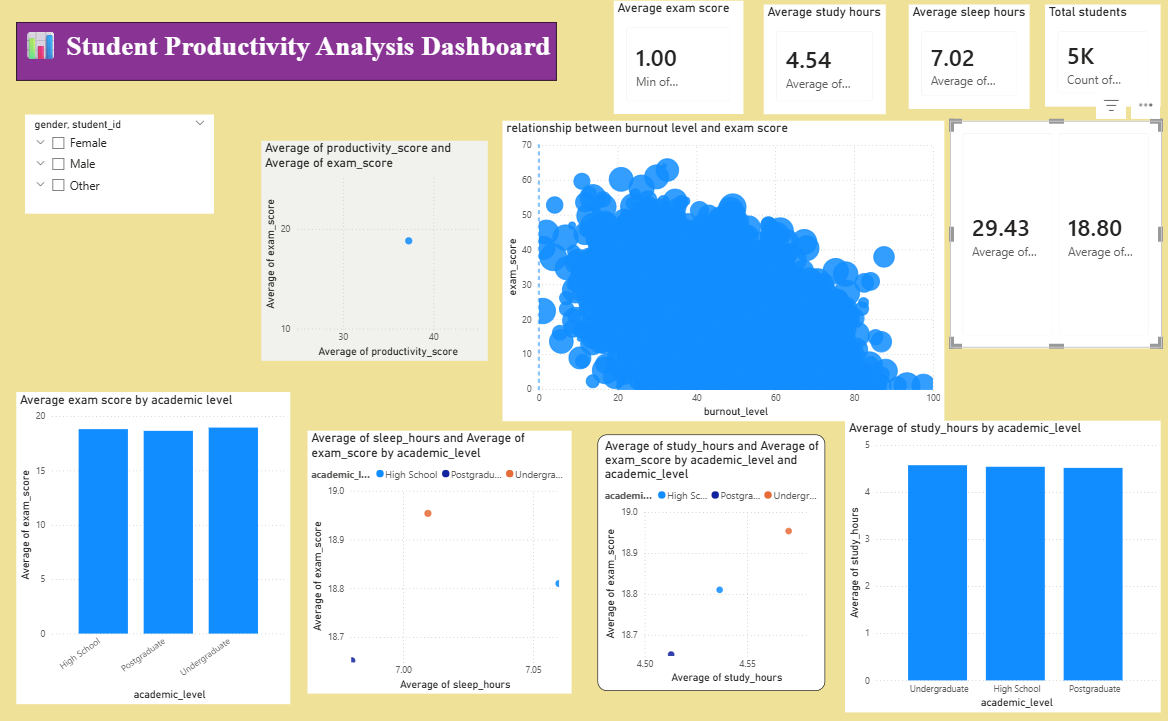

The page's visual inventory and layout, read from the dashboard file:
{"tool":"powerbi","page":{"name":"Page 1","canvas":[1600,1000],"ordinal":0},"visuals":[{"type":"clusteredColumnChart","title":"Average exam score by academic level","fields":{"Category":["ultimate_student_productivity_d.academic_level","ultimate_student_productivity_d.study_hours"],"Y":["Avg(ultimate_student_productivity_d.exam_score)"]},"box":[216,623.7,374.9,369.7],"z":0},{"type":"clusteredColumnChart","fields":{"Category":["ultimate_student_productivity_d.academic_level"],"Y":["Avg(ultimate_student_productivity_d.study_hours)"]},"box":[1135.1,623.7,392.2,355.9],"z":1000},{"type":"scatterChart","fields":{"X":["Avg(ultimate_student_productivity_d.study_hours)"],"Y":["Avg(ultimate_student_productivity_d.exam_score)"],"Category":["ultimate_student_productivity_d.academic_level","ultimate_student_productivity_d.student_id"],"Series":["ultimate_student_productivity_d.academic_level"]},"box":[927.8,228.1,311,300.6],"z":2000},{"type":"scatterChart","fields":{"X":["Avg(ultimate_student_productivity_d.sleep_hours)"],"Y":["Avg(ultimate_student_productivity_d.exam_score)"],"Series":["ultimate_student_productivity_d.academic_level"]},"box":[250.5,228.1,304.1,300.6],"z":3000},{"type":"cardVisual","fields":{"Data":["Avg(ultimate_student_productivity_d.focus_index)","Avg(ultimate_student_productivity_d.exam_score)"]},"box":[1268.1,205.6,290.3,323.1],"z":4000},{"type":"scatterChart","title":"relationship between burnout level and exam score","fields":{"X":["ultimate_student_productivity_d.burnout_level"],"Y":["ultimate_student_productivity_d.exam_score"],"Size":["Sum(ultimate_student_productivity_d.student_id)"]},"box":[684.2,623.7,340.4,369.7],"z":5000},{"type":"scatterChart","fields":{"X":["Avg(ultimate_student_productivity_d.productivity_score)"],"Y":["Avg(ultimate_student_productivity_d.exam_score)"]},"box":[587.4,228.1,307.5,300.6],"z":6000},{"type":"cardVisual","title":"Average exam score","fields":{"Data":["Min(ultimate_student_productivity_d.exam_score)"]},"box":[13.8,24.2,150.3,139.9],"z":7000},{"type":"cardVisual","title":"Average study hours","fields":{"Data":["Avg(ultimate_student_productivity_d.study_hours)"]},"box":[0,217.7,150.3,150.3],"z":8000},{"type":"cardVisual","title":"Average sleep hours","fields":{"Data":["Avg(ultimate_student_productivity_d.sleep_hours)"]},"box":[0,599.5,139.9,115.8],"z":9000},{"type":"cardVisual","title":"Total students","fields":{"Data":["CountNonNull(ultimate_student_productivity_d.student_id)"]},"box":[1.7,428.5,139.9,114],"z":10000},{"type":"textbox","box":[431.1,13.8,737.7,150.3],"z":10001}]}

Visuals, with their boxes in screenshot pixels (x1, y1, x2, y2), scaled from the page's 1600x1000 canvas onto the 1168x721 screenshot:
"Average exam score by academic level" clusteredColumnChart: l=158, t=450, r=431, b=716
clusteredColumnChart - ultimate_student_productivity_d.academic_level x Avg(ultimate_student_productivity_d.study_hours): l=829, t=450, r=1115, b=706
scatterChart - Avg(ultimate_student_productivity_d.study_hours) x Avg(ultimate_student_productivity_d.exam_score): l=677, t=164, r=904, b=381
scatterChart - Avg(ultimate_student_productivity_d.sleep_hours) x Avg(ultimate_student_productivity_d.exam_score): l=183, t=164, r=405, b=381
cardVisual - Avg(ultimate_student_productivity_d.focus_index) x Avg(ultimate_student_productivity_d.exam_score): l=926, t=148, r=1138, b=381
"relationship between burnout level and exam score" scatterChart: l=499, t=450, r=748, b=716
scatterChart - Avg(ultimate_student_productivity_d.productivity_score) x Avg(ultimate_student_productivity_d.exam_score): l=429, t=164, r=653, b=381
"Average exam score" cardVisual: l=10, t=17, r=120, b=118
"Average study hours" cardVisual: l=0, t=157, r=110, b=265
"Average sleep hours" cardVisual: l=0, t=432, r=102, b=516
"Total students" cardVisual: l=1, t=309, r=103, b=391
textbox: l=315, t=10, r=853, b=118
